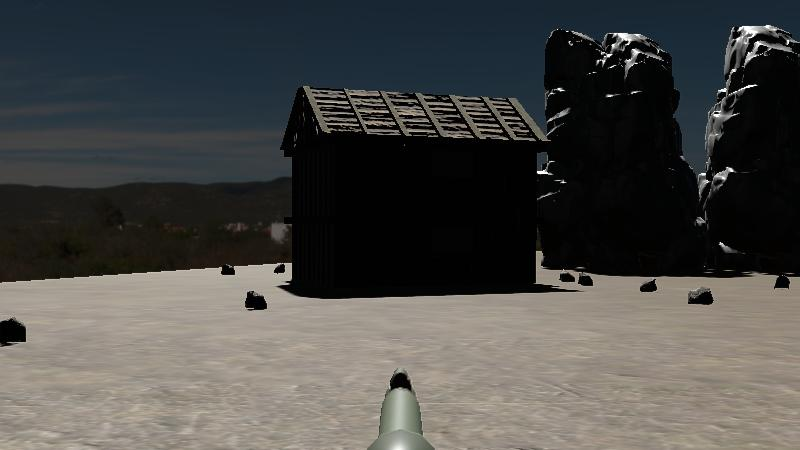House: (279, 85, 541, 299)
